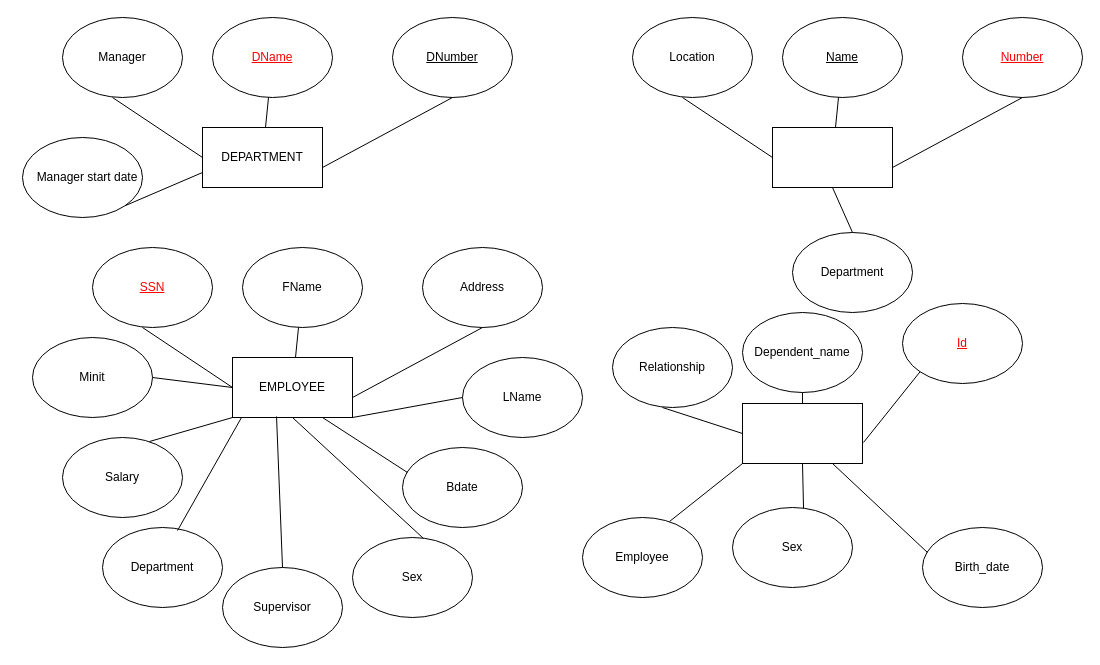
Image size: 1100x665. Some labels were removed from this diagram. The shapes that lost their labels are listed below. From the top down, each one's centre as x and y in pixels, then its label:
At (x=832, y=157): "PROJECT".
At (x=802, y=433): "DEPNDENT".
